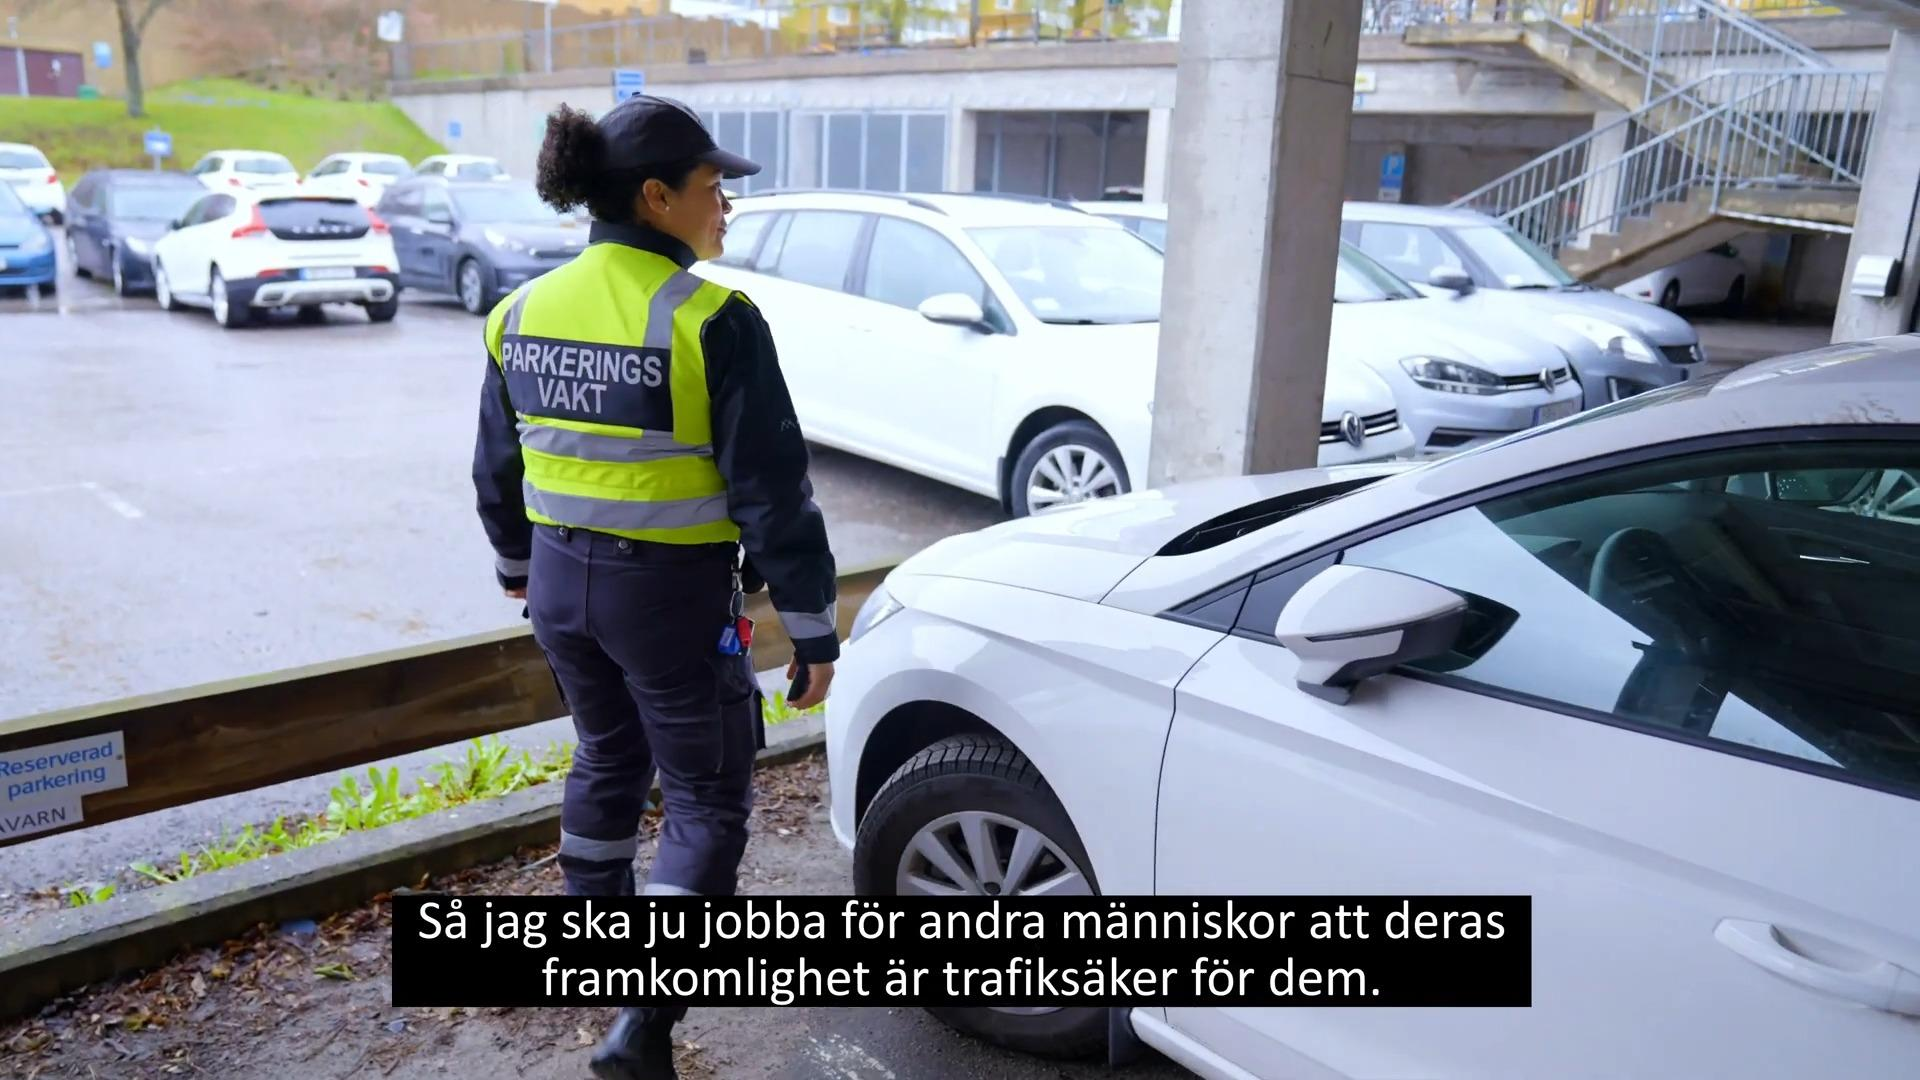parking-attendant: (473, 95, 837, 894)
